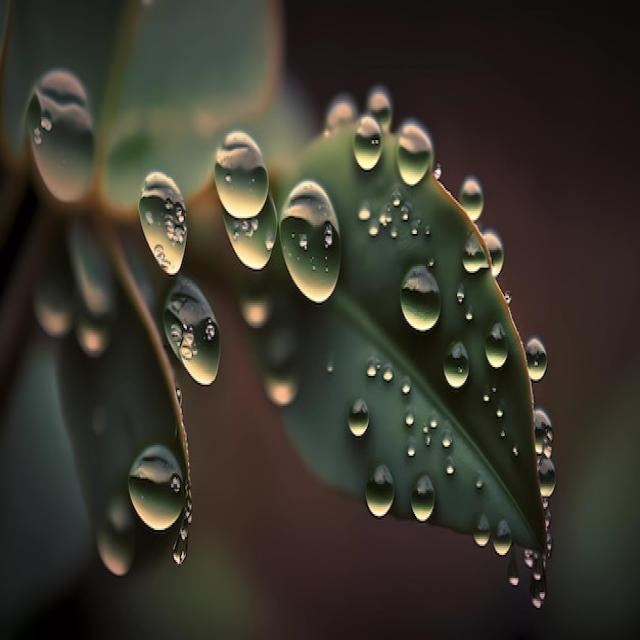raindrop: (280, 146, 352, 321), (150, 270, 230, 399), (205, 104, 282, 226), (120, 429, 192, 541), (134, 154, 196, 278), (392, 254, 446, 336), (394, 108, 442, 196), (431, 323, 477, 406), (360, 452, 402, 532), (476, 306, 518, 382), (352, 105, 390, 182), (403, 468, 448, 530), (521, 324, 556, 390), (453, 170, 492, 227)
